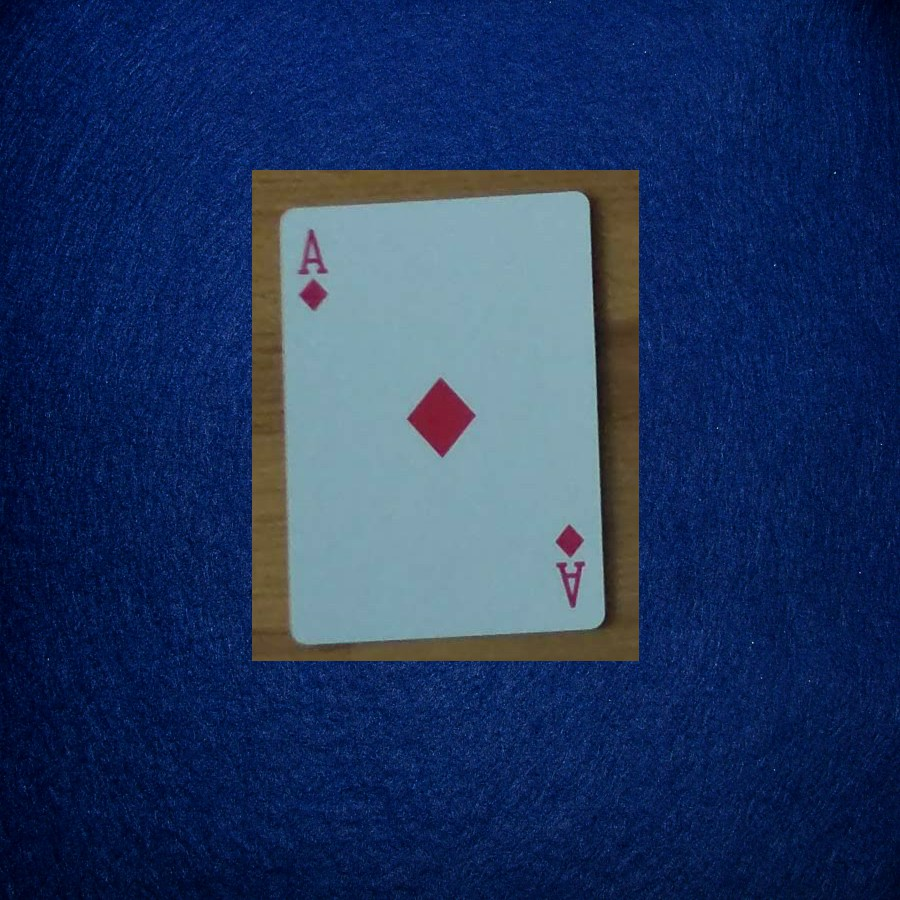1F: (537, 505, 601, 627), (288, 206, 339, 332)
